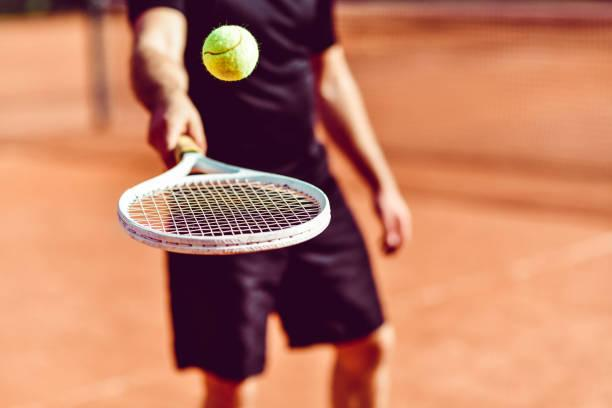ball_tennis: (202, 25, 259, 82)
